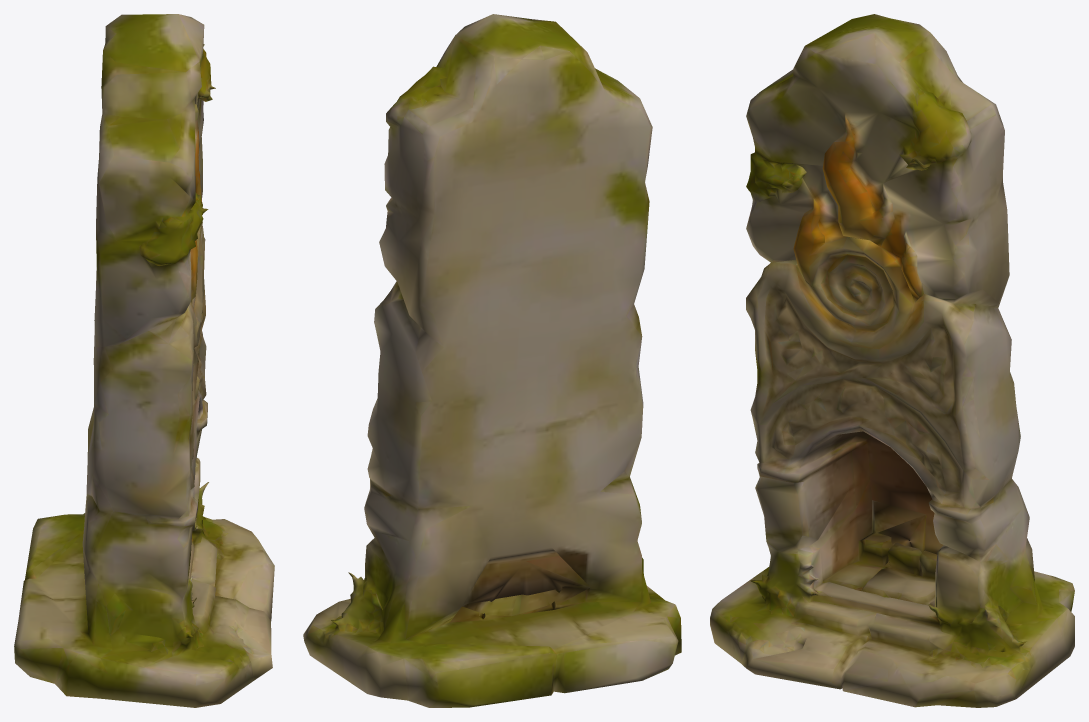
Rendered from wyn_ruin_hearthstone.glb.
The picture shows the model from 3 angles, left to right: view 1: azimuth 30°, elevation 25°; view 2: azimuth 150°, elevation 25°; view 3: azimuth 270°, elevation 25°; orthographic projection.
Parts seen in each view (by area): view 1: tripo_node_0115d7fd-b143-4b4c-b82b-ed62fa521704; view 2: tripo_node_0115d7fd-b143-4b4c-b82b-ed62fa521704; view 3: tripo_node_0115d7fd-b143-4b4c-b82b-ed62fa521704.
Part boxes in pixels (x1,y1,x2,y2): tripo_node_0115d7fd-b143-4b4c-b82b-ed62fa521704: (14,14,274,707); tripo_node_0115d7fd-b143-4b4c-b82b-ed62fa521704: (303,14,681,707); tripo_node_0115d7fd-b143-4b4c-b82b-ed62fa521704: (710,14,1074,707).
Size of the model in its own units: 0.6001 by 1.2 by 0.6311.
Materials: 1 (1 with a texture image).
